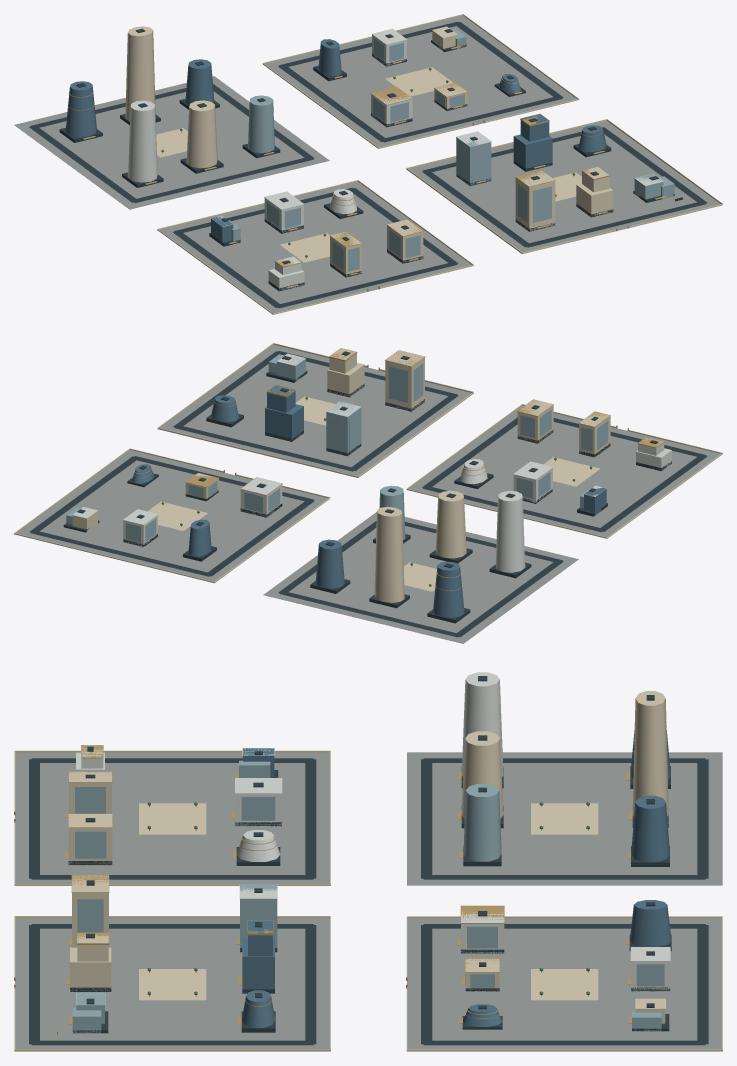
File: GC-TILE-05-15.glb
3 renders of one model, top to bottom at view 1: azimuth 30°, elevation 25°; view 2: azimuth 150°, elevation 25°; view 3: azimuth 270°, elevation 25°, orthographic. The views are drawn at different scales.
Visible parts, largest first — view 1: GC-TILE-05-15-paving, GC-TILE-05-15-ivory, GC-TILE-05-15-dark, GC-TILE-05-15-glass, GC-TILE-05-15-blue, GC-TILE-05-15-white, GC-TILE-05-15-gold; view 2: GC-TILE-05-15-paving, GC-TILE-05-15-ivory, GC-TILE-05-15-dark, GC-TILE-05-15-glass, GC-TILE-05-15-blue, GC-TILE-05-15-white, GC-TILE-05-15-gold; view 3: GC-TILE-05-15-paving, GC-TILE-05-15-ivory, GC-TILE-05-15-dark, GC-TILE-05-15-glass, GC-TILE-05-15-blue, GC-TILE-05-15-white, GC-TILE-05-15-gold.
Boxes of the visible parts, x1,y1,x2,y2 form: GC-TILE-05-15-paving: (14,15,720,313); GC-TILE-05-15-ivory: (125,14,722,314); GC-TILE-05-15-dark: (29,21,707,308); GC-TILE-05-15-glass: (228,29,674,271); GC-TILE-05-15-blue: (65,39,606,244); GC-TILE-05-15-white: (128,26,663,290); GC-TILE-05-15-gold: (67,46,682,291); GC-TILE-05-15-paving: (16,345,720,643); GC-TILE-05-15-ivory: (14,343,722,602); GC-TILE-05-15-dark: (30,351,707,637); GC-TILE-05-15-glass: (66,354,608,542); GC-TILE-05-15-blue: (132,385,606,617); GC-TILE-05-15-white: (72,353,671,572); GC-TILE-05-15-gold: (133,348,664,591); GC-TILE-05-15-paving: (15,752,722,1049); GC-TILE-05-15-ivory: (14,691,722,1051); GC-TILE-05-15-dark: (29,676,708,1045); GC-TILE-05-15-glass: (72,760,664,1033); GC-TILE-05-15-blue: (241,730,671,1027); GC-TILE-05-15-white: (76,672,670,1008); GC-TILE-05-15-gold: (14,722,667,1032).
Bounding box in the file's own units: 759 × 144 × 760.
